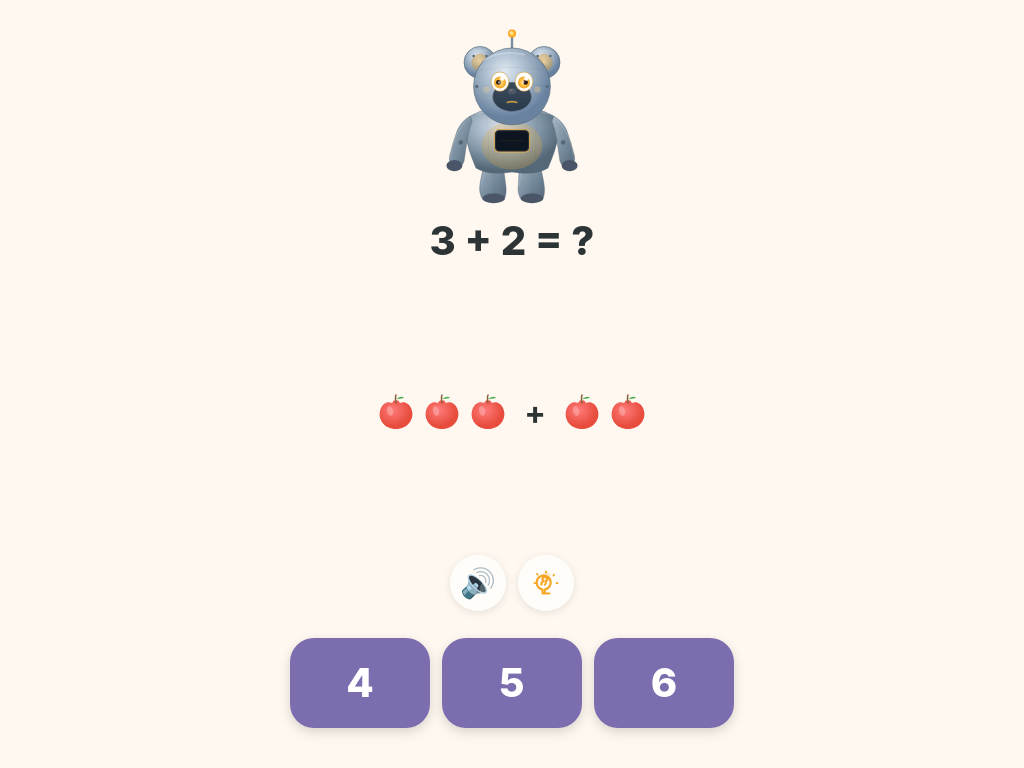
Test: Lesson Button Feature › opens the QuickLessonCard walkthrough when Lesson button is tapped
Expected: the text "let me show you" is not shown
// Tap the Lesson button
Step 1. Click the button named "watch lesson demo" → {"x": 546, "y": 583}, box x1=518 y1=555 x2=574 y2=611
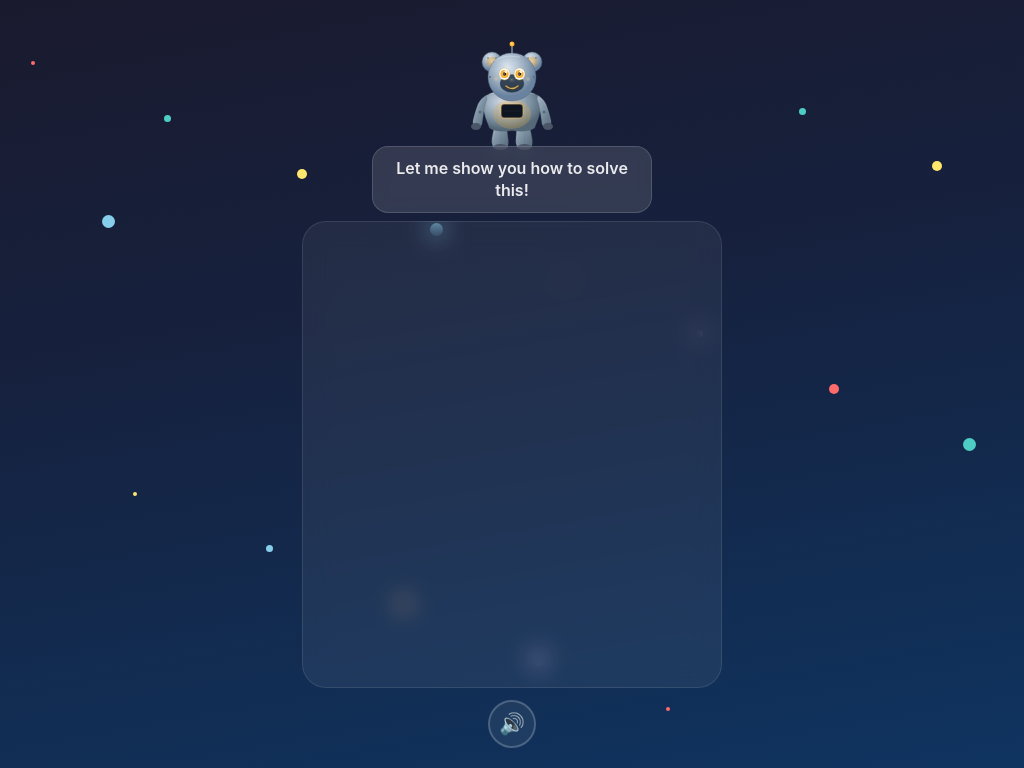
Expected: the text "Let me show you how to solve this!" is shown, x1=393 y1=157 x2=631 y2=202
